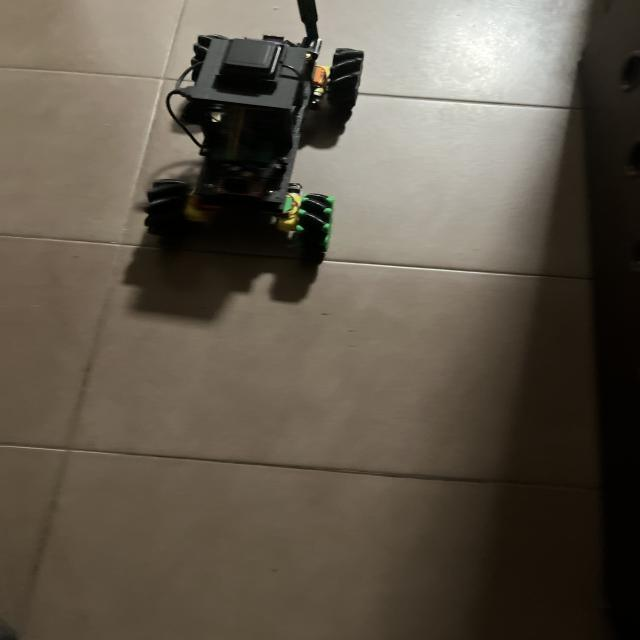robot: (143, 0, 364, 262)
